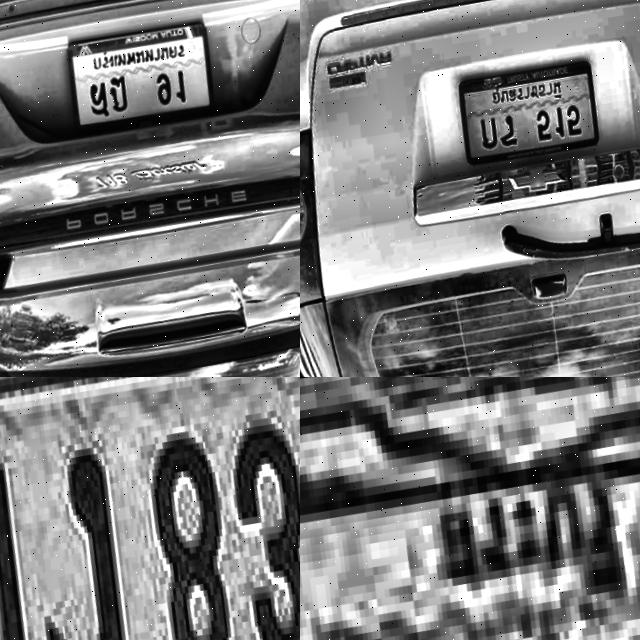license-plate: (300, 377, 640, 640), (0, 377, 300, 640), (63, 14, 228, 137), (454, 53, 612, 170)
